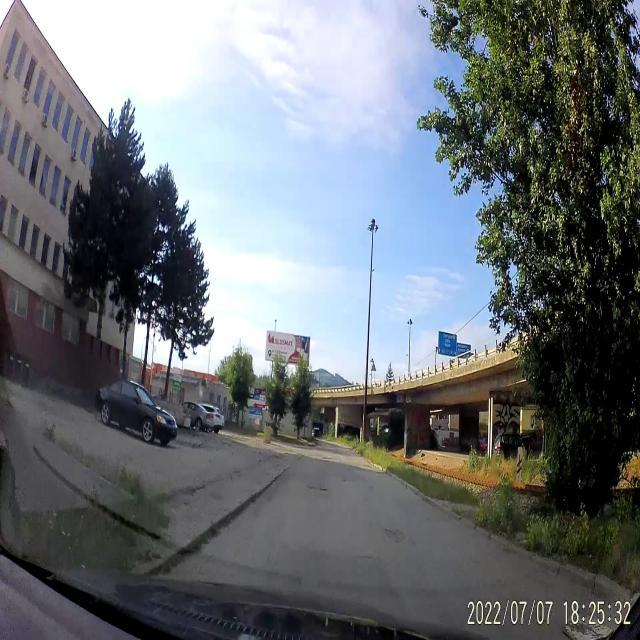Pothole: (382, 524, 409, 550), (302, 481, 328, 499)
